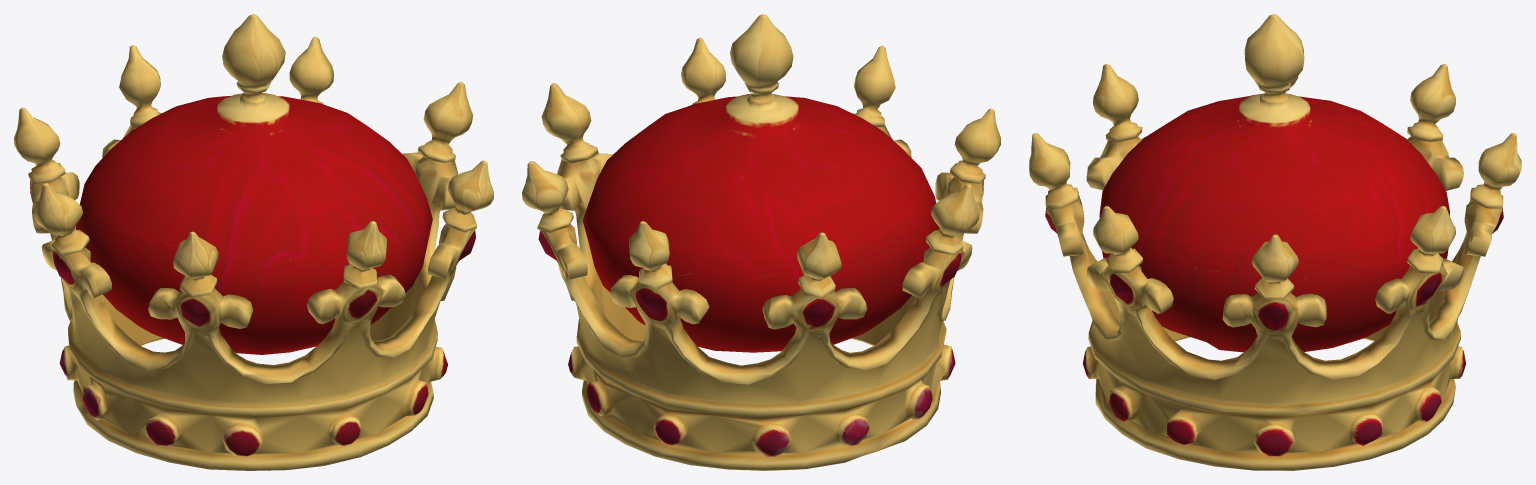
Rendered from hat_crown.glb.
3 renders of one model, left to right at view 1: azimuth 30°, elevation 25°; view 2: azimuth 150°, elevation 25°; view 3: azimuth 270°, elevation 25°, orthographic.
Size of the model in its own units: 0.9546 by 0.8218 by 0.9526.
Materials: 1 (1 with a texture image).
